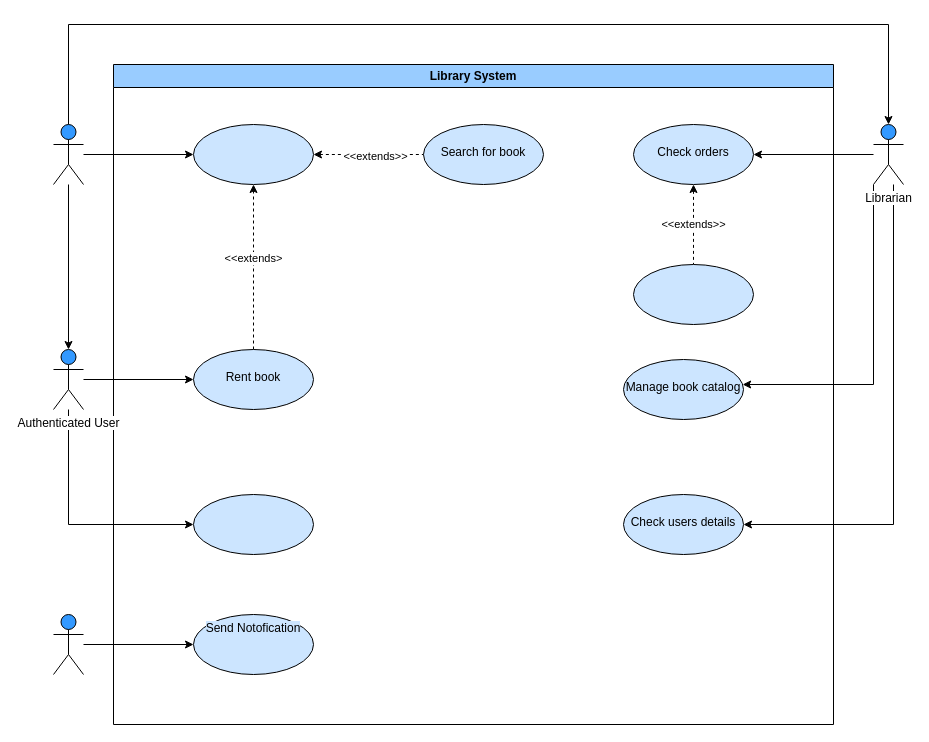
Image size: 929x742. Some labels were removed from this diagram. Each missing label, with the centre of its shape:
"Browse book catalog" belongs at point 253,154.
"Change order status" belongs at point 693,294.
"Check rental details" belongs at point 253,524.
"System" belongs at point 68,644.
"User" belongs at point 68,154.
